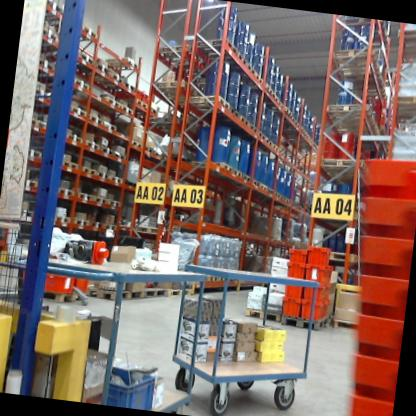pallet: (21, 279, 86, 310), (330, 59, 387, 92), (326, 41, 381, 75), (152, 32, 201, 66), (316, 149, 368, 180), (325, 114, 381, 142), (88, 276, 143, 304), (333, 16, 389, 41), (193, 31, 237, 62), (186, 88, 232, 117), (326, 98, 376, 124), (278, 308, 324, 335), (242, 298, 282, 329), (342, 83, 392, 106), (172, 52, 212, 80), (184, 155, 236, 176), (150, 75, 193, 99), (321, 245, 360, 271), (144, 113, 188, 136), (206, 48, 247, 71), (31, 23, 63, 52), (391, 88, 416, 125), (103, 53, 141, 77), (231, 61, 266, 87), (169, 278, 202, 305), (71, 20, 104, 45), (395, 27, 416, 65), (129, 219, 165, 241), (187, 72, 215, 97), (329, 316, 367, 334), (324, 173, 371, 187), (226, 60, 256, 81), (68, 47, 99, 67), (63, 76, 97, 94), (36, 56, 60, 81), (251, 93, 286, 110), (242, 78, 273, 97), (27, 81, 55, 102), (66, 100, 90, 123), (142, 282, 171, 301), (23, 112, 49, 132), (18, 172, 48, 189), (58, 154, 80, 177), (41, 0, 67, 19), (252, 86, 279, 104), (105, 81, 137, 96), (268, 115, 302, 129), (97, 92, 122, 111), (13, 205, 39, 223), (92, 55, 113, 77), (114, 103, 138, 122), (230, 107, 251, 128), (275, 122, 306, 136), (280, 134, 315, 146), (60, 129, 87, 144), (223, 100, 242, 121), (21, 145, 46, 160), (126, 93, 149, 109), (270, 110, 296, 124), (266, 134, 284, 154), (248, 125, 269, 142), (104, 170, 125, 187), (51, 211, 73, 227), (102, 67, 121, 85), (52, 184, 76, 198), (86, 216, 107, 232), (76, 161, 97, 177), (272, 103, 294, 118), (241, 117, 258, 136), (85, 111, 104, 128), (258, 133, 276, 149), (286, 130, 309, 142), (89, 192, 105, 209), (101, 115, 117, 132), (95, 168, 112, 182), (229, 168, 245, 182), (103, 199, 121, 211), (201, 272, 220, 283), (129, 139, 146, 151), (73, 190, 91, 201), (85, 139, 103, 150), (257, 179, 271, 193), (72, 215, 86, 229), (112, 146, 126, 160), (140, 142, 155, 155), (215, 272, 230, 285), (99, 143, 114, 155), (148, 147, 163, 159), (147, 105, 160, 117), (105, 223, 118, 234), (242, 174, 256, 184), (264, 184, 275, 196), (248, 178, 262, 187), (277, 191, 287, 203), (283, 196, 292, 206), (271, 193, 281, 200)
small_load_carrier: (100, 358, 166, 411), (355, 228, 414, 280), (348, 309, 402, 356), (363, 154, 416, 200), (353, 274, 408, 316), (348, 351, 397, 396), (362, 194, 416, 234), (22, 257, 72, 297), (342, 383, 394, 416), (302, 240, 340, 271), (70, 264, 100, 300), (302, 265, 339, 287), (281, 276, 307, 304), (299, 298, 329, 322), (284, 258, 306, 285), (300, 283, 333, 300), (279, 295, 303, 318), (284, 243, 311, 263)
